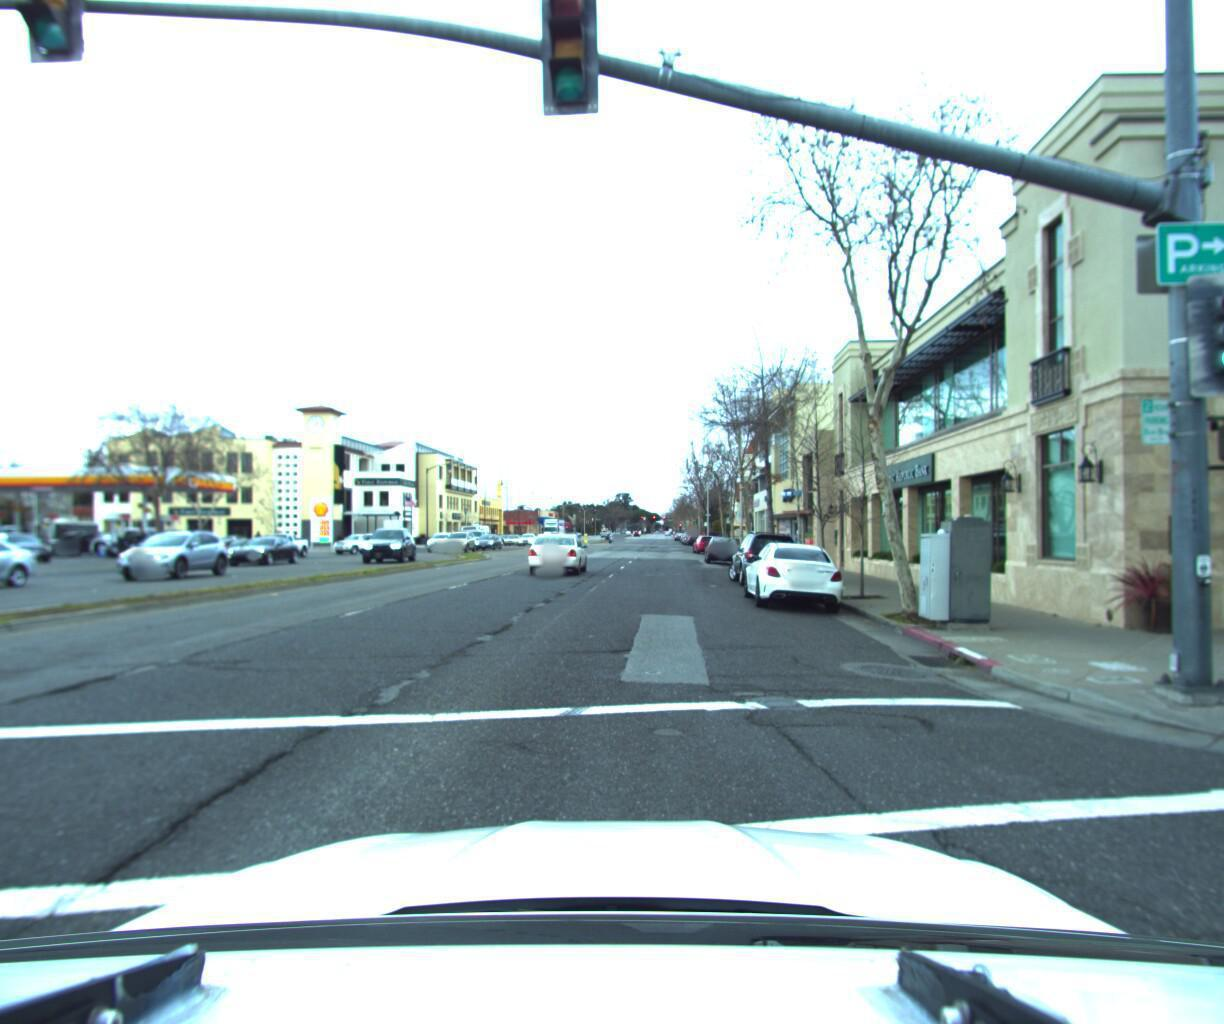car: (740, 531, 855, 611), (119, 528, 241, 582), (728, 525, 808, 585), (523, 524, 594, 573), (225, 535, 307, 565), (37, 531, 124, 557), (360, 526, 417, 560), (252, 529, 316, 557), (325, 530, 384, 552), (703, 532, 744, 560), (422, 528, 460, 550), (442, 530, 478, 552), (692, 530, 724, 550), (471, 530, 504, 548)
other_vehicle: (44, 517, 111, 551)
